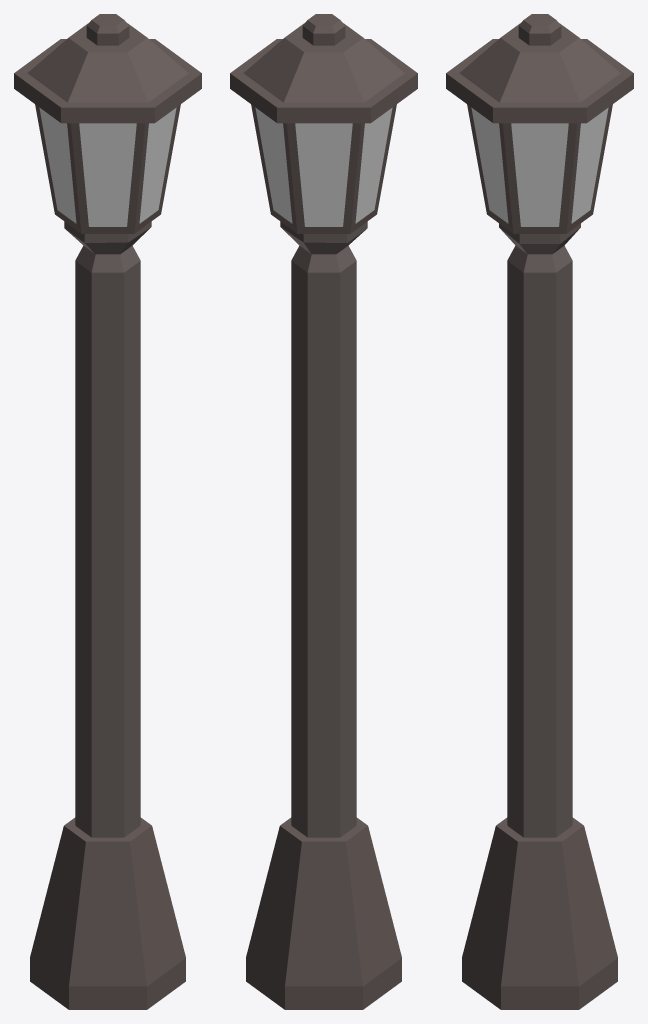
The model's file is StreetLight(1).fbx.
The picture shows the model from 3 angles, left to right: view 1: azimuth 30°, elevation 25°; view 2: azimuth 150°, elevation 25°; view 3: azimuth 270°, elevation 25°; orthographic projection.
Parts seen in each view (by area): view 1: StreetLight(1); view 2: StreetLight(1); view 3: StreetLight(1).
Part boxes in pixels (box(x1,y1,x2,y2)): StreetLight(1): box(14, 14, 201, 1009); StreetLight(1): box(230, 14, 417, 1009); StreetLight(1): box(446, 14, 633, 1009).
Size of the model in its own units: 43.92 by 286 by 50.72.
